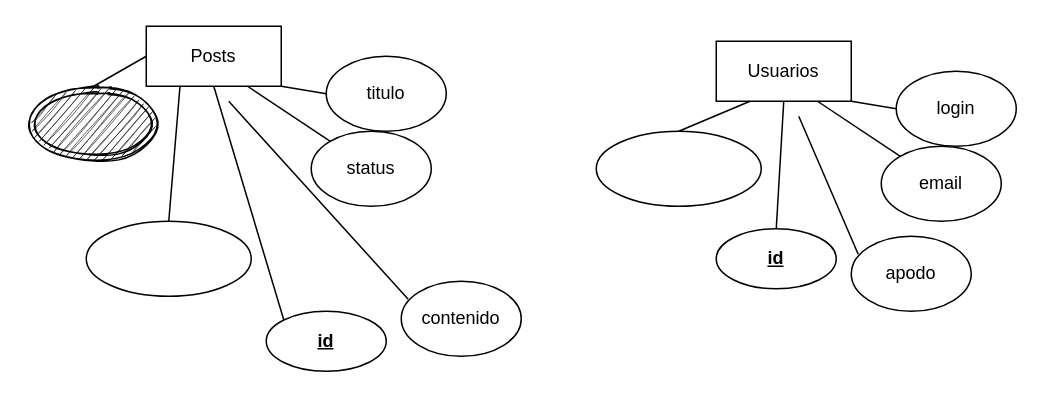
Image size: 1043x398. Some labels were removed from this diagram. The shapes that lost their labels are listed below. From the top down, each one's centre as x and y in pixels, then its label:
At (x=93, y=123): "etiquetas".
At (x=678, y=168): "password".
At (x=168, y=258): "fecha_publicacion".
